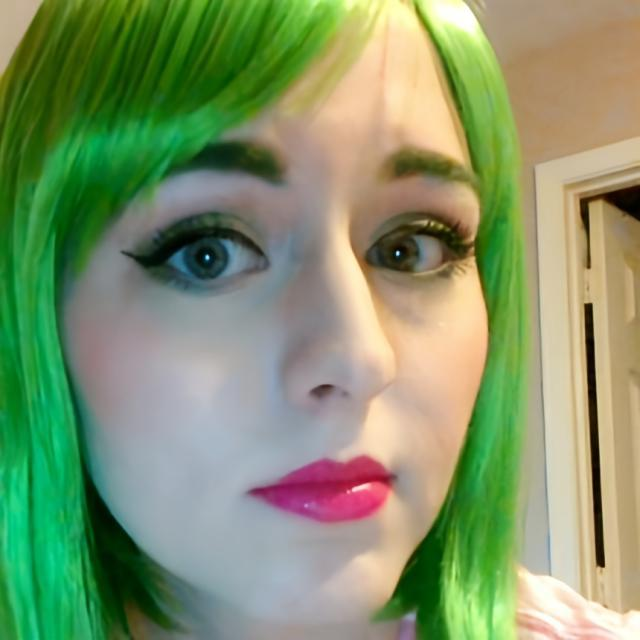surprise: (60, 0, 490, 631)
